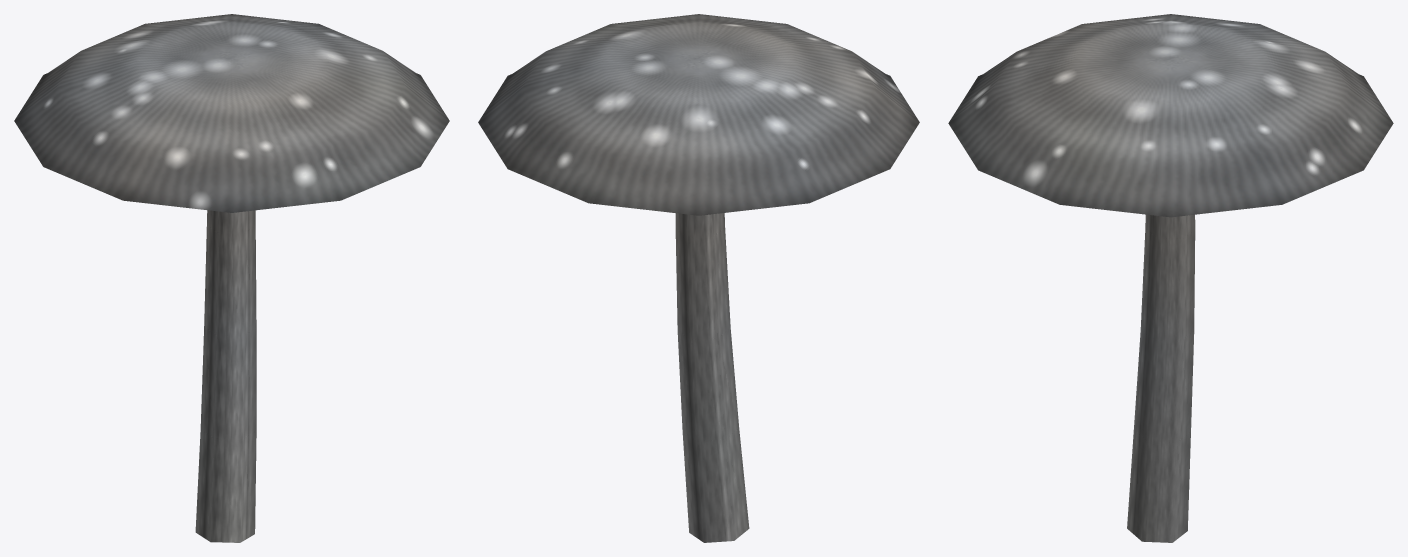
File: giant_cap_l0.gltf
The picture shows the model from 3 angles, left to right: view 1: azimuth 30°, elevation 25°; view 2: azimuth 150°, elevation 25°; view 3: azimuth 270°, elevation 25°; orthographic projection. The views are drawn at different scales.
Parts seen in each view (by area): view 1: giant_cap_l0; view 2: giant_cap_l0; view 3: giant_cap_l0.
Part boxes in pixels (x1,y1,x2,y2): giant_cap_l0: [14, 14, 449, 542]; giant_cap_l0: [478, 14, 919, 542]; giant_cap_l0: [948, 14, 1393, 542].
Bounding box in the file's own units: 6.4 × 7.6 × 6.4.
2 materials, 2 textured.
